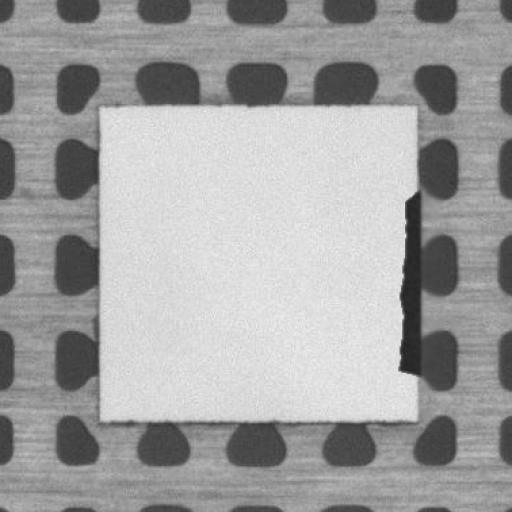DIE_BROKEN: (394, 192, 423, 384)
